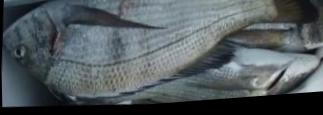fish: (2, 0, 317, 99)
